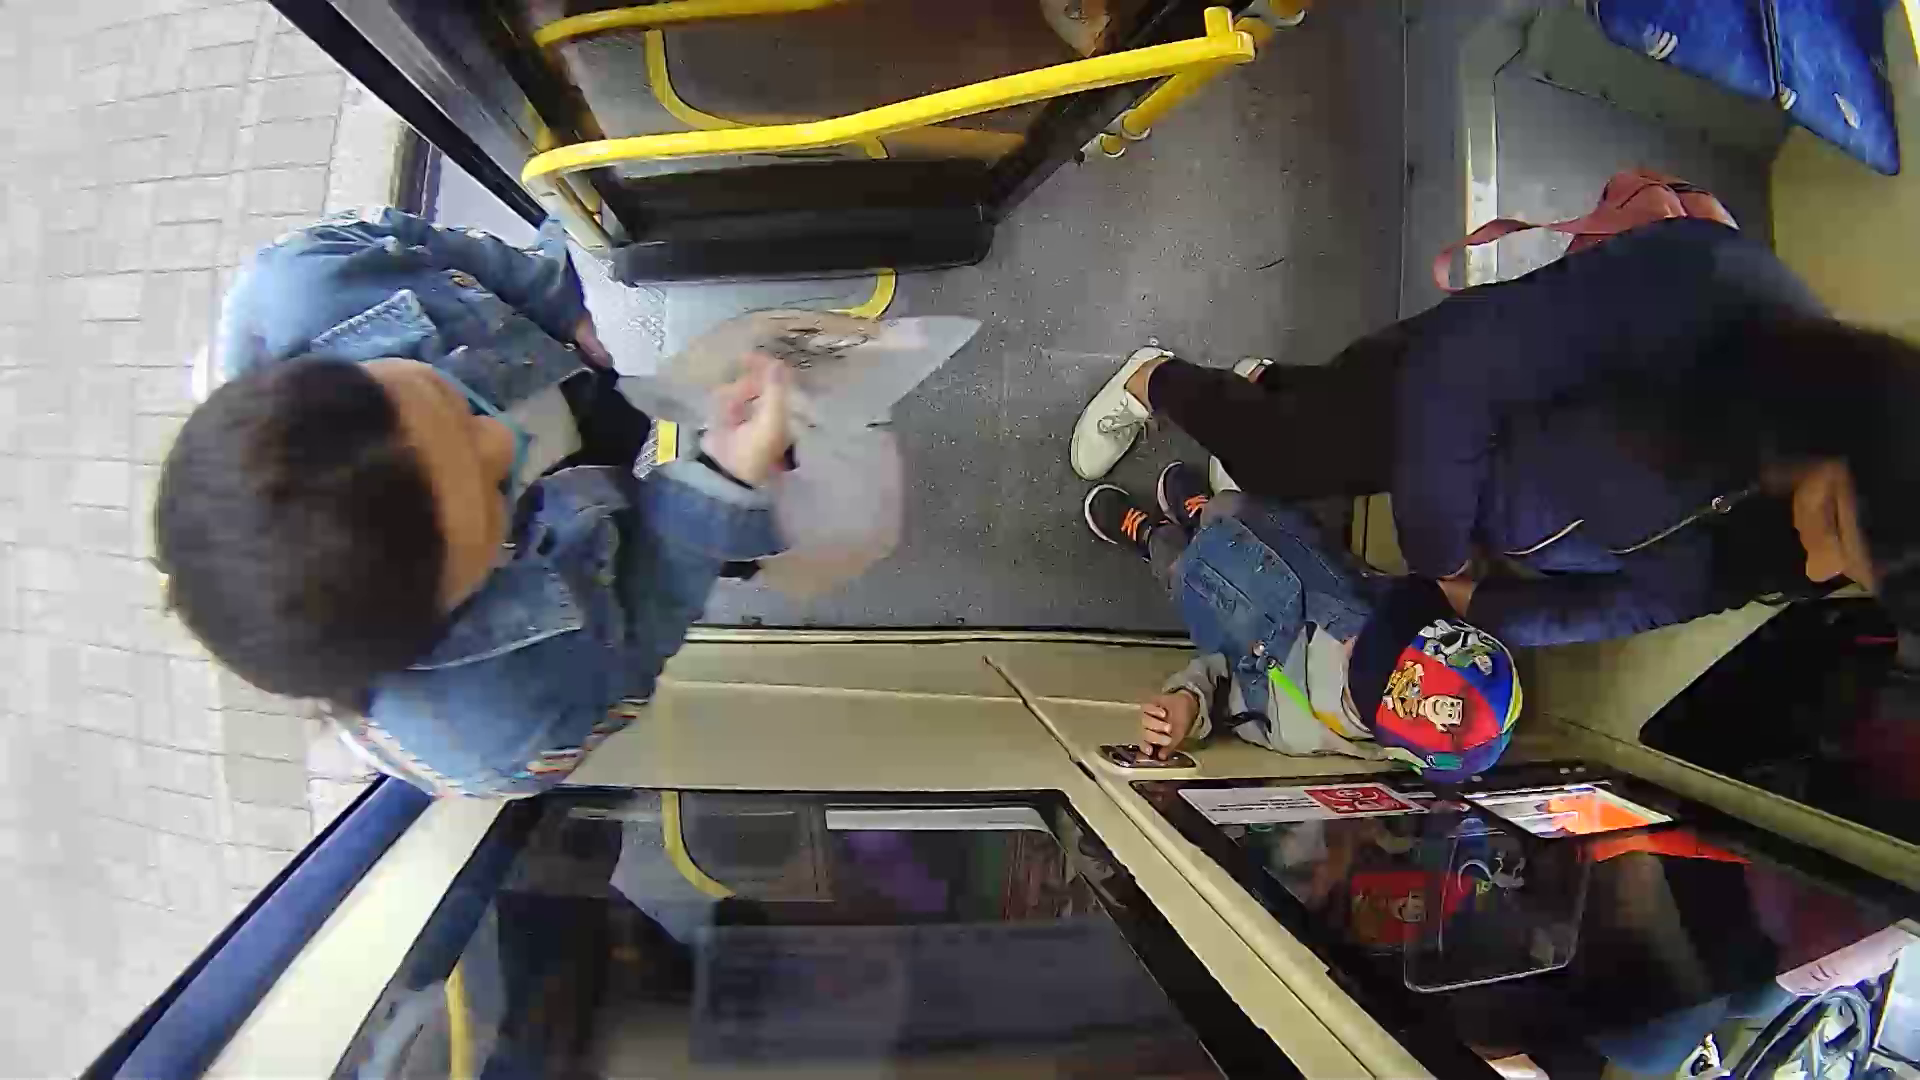person: (1102, 151, 1904, 785), (234, 145, 909, 829)
